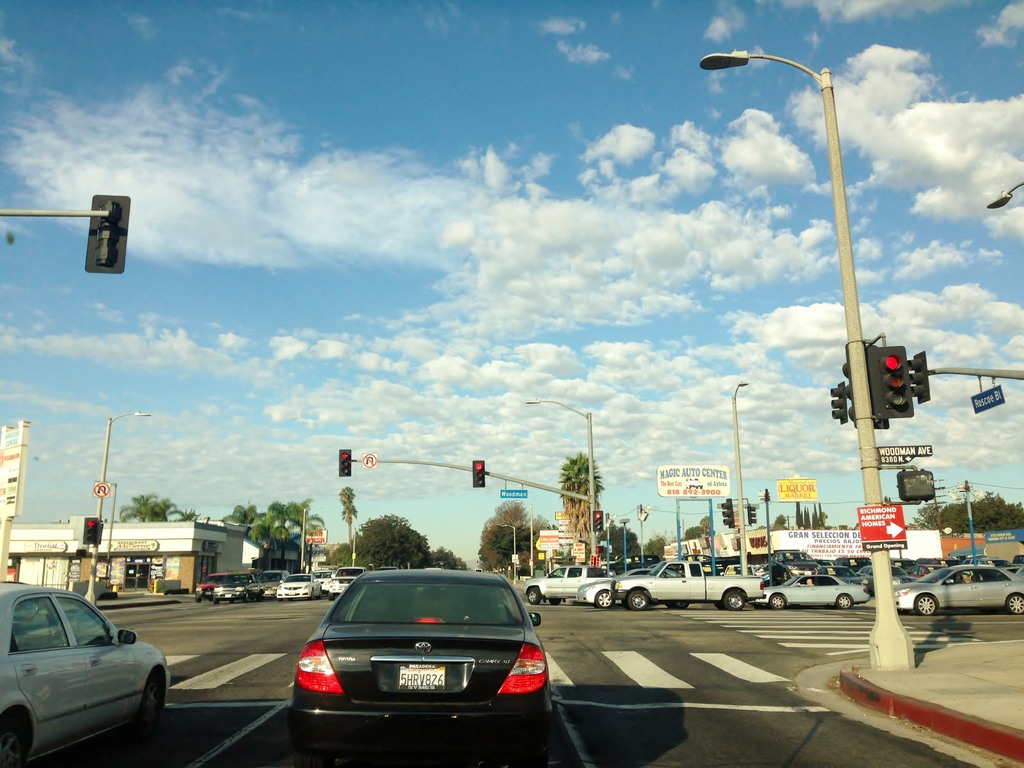red_light: (881, 351, 909, 412), (472, 461, 485, 484), (338, 449, 349, 474)
